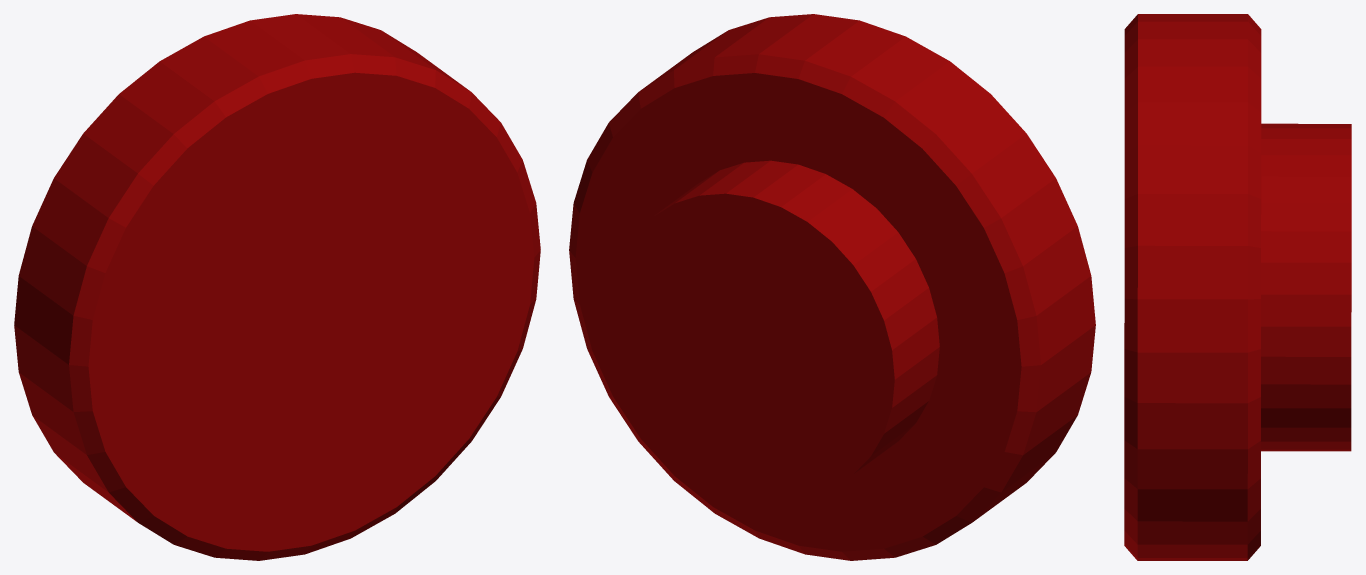
Rendered from stopbutton.obj.
The picture shows the model from 3 angles, left to right: view 1: azimuth 30°, elevation 25°; view 2: azimuth 150°, elevation 25°; view 3: azimuth 270°, elevation 25°; orthographic projection.
Visible parts, largest first — view 1: stopbutton; view 2: stopbutton; view 3: stopbutton.
Boxes of the visible parts, box(x1,y1,x2,y2) form: stopbutton: box(14, 14, 540, 560); stopbutton: box(569, 14, 1095, 560); stopbutton: box(1124, 14, 1351, 560).
Bounding box in the file's own units: 0.0425 × 0.0425 × 0.0176.
